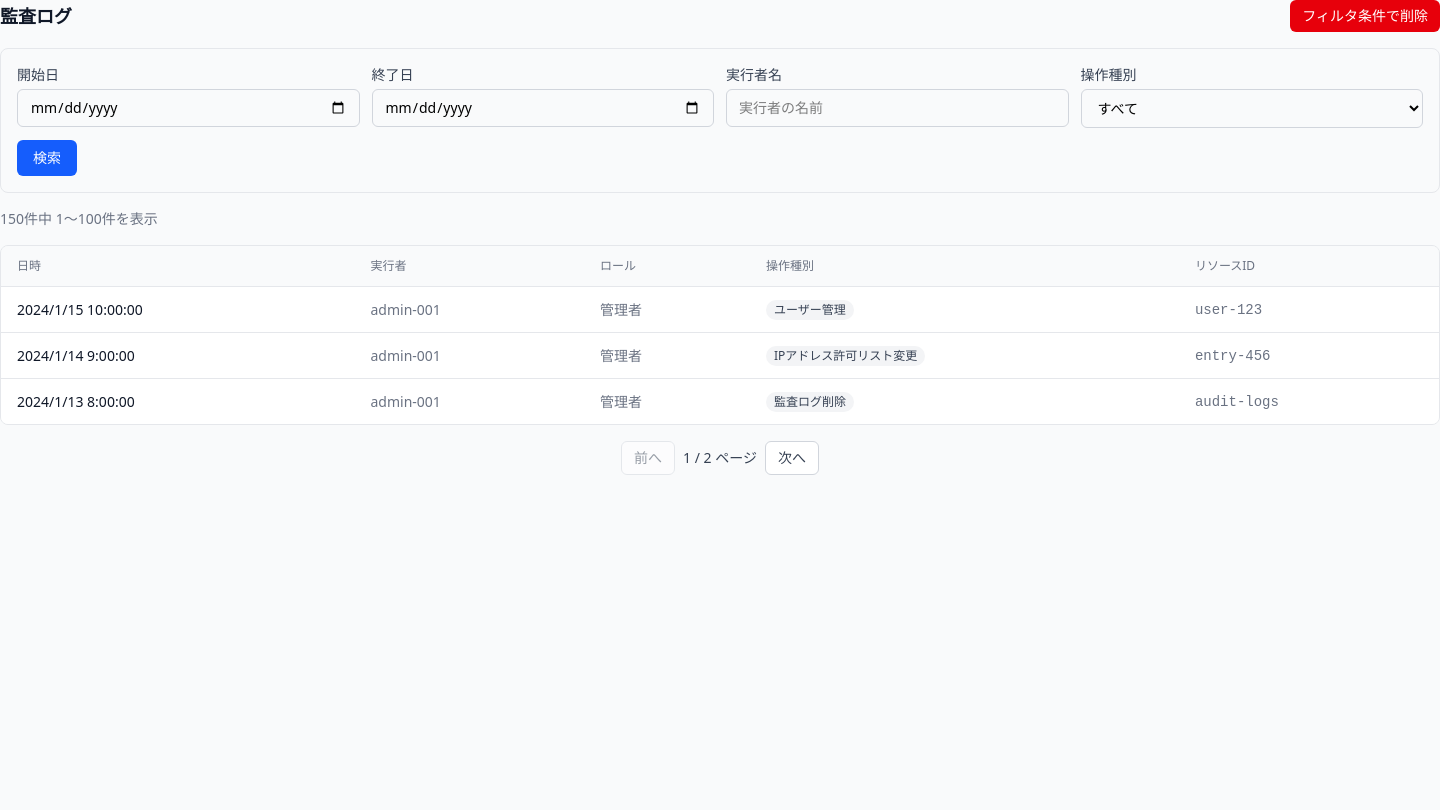
Test case: AuditLogViewer › 削除確認ダイアログ (Requirement 14.13) › 確認ダイアログに削除対象件数を表示する
This screenshot has width=1440, height=810.
Click the button "フィルタ条件で削除" at (1365, 16), box top-left (1290, 0), bottom-right (1439, 32)
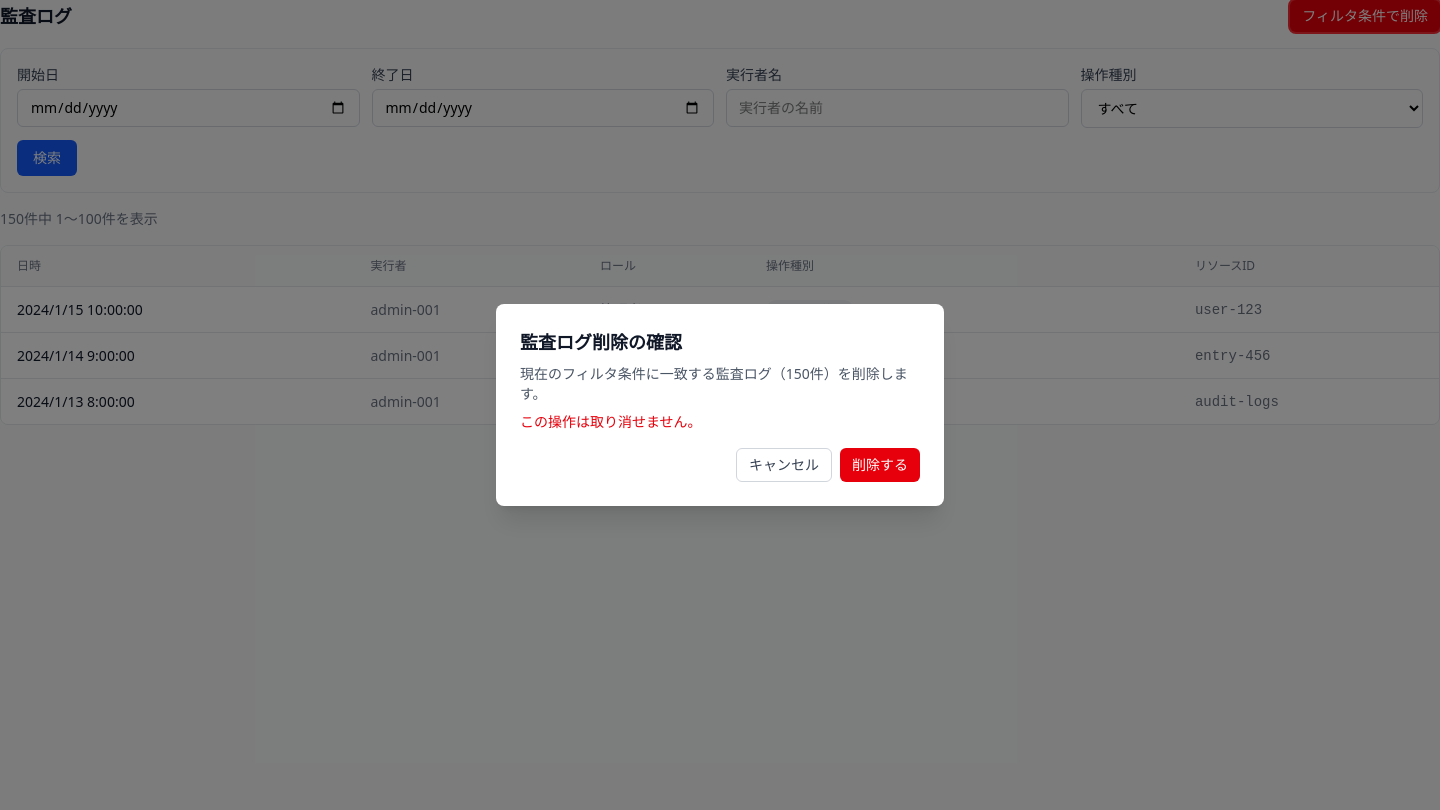
Expected: the text "現在のフィルタ条件に一致する監査ログ（150件）を削除します。" is shown, top-left (520, 364), bottom-right (920, 404)
